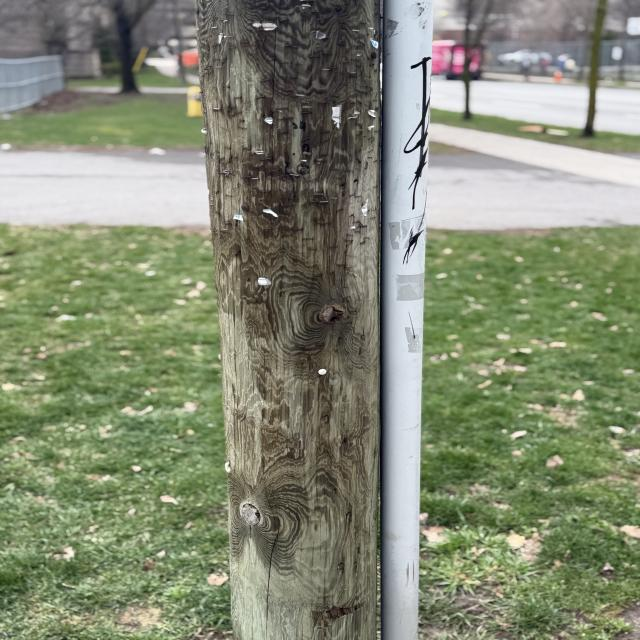Electrical Pole: (199, 5, 383, 639)
